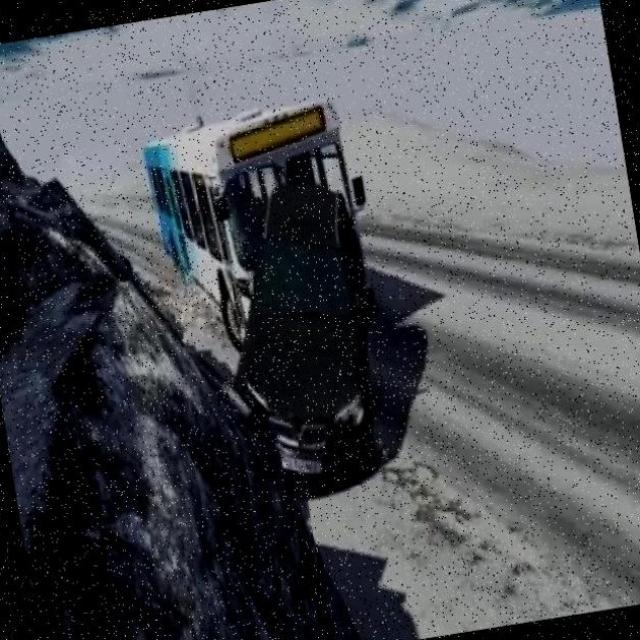accident: (102, 286, 406, 549), (169, 144, 407, 380)
